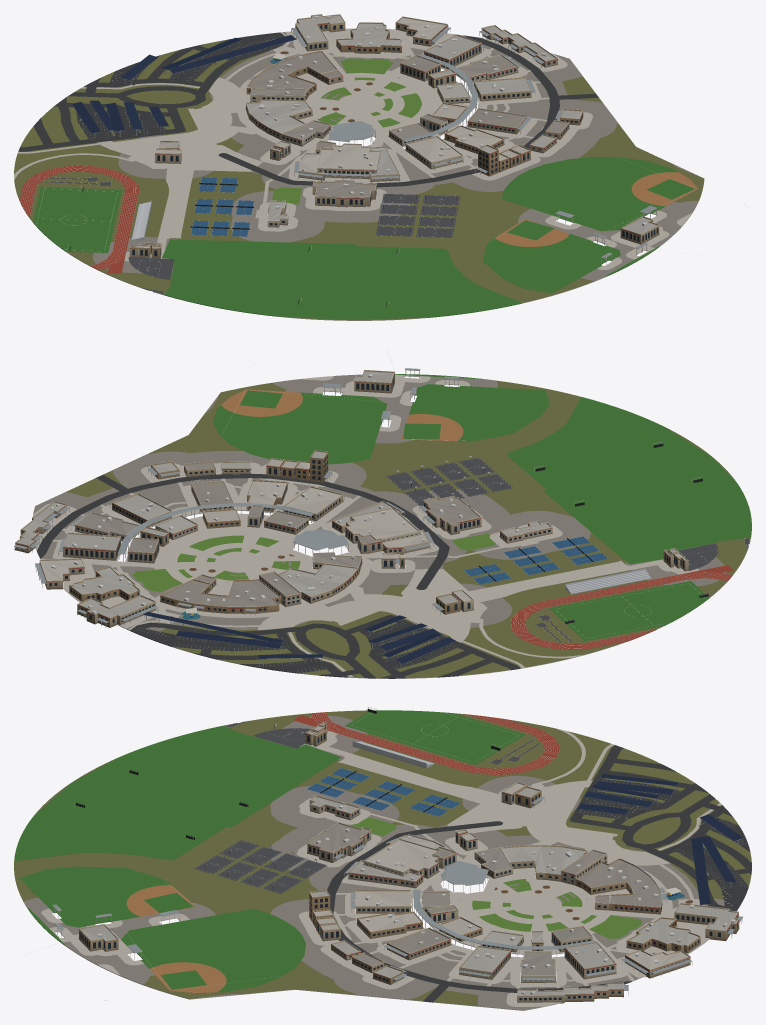
Rendered from del_norte_hs.glb.
3 renders of one model, top to bottom at view 1: azimuth 30°, elevation 25°; view 2: azimuth 150°, elevation 25°; view 3: azimuth 270°, elevation 25°, orthographic. The views are drawn at different scales.
Parts seen in each view (by area): view 1: del_norte_hs_ground, del_norte_hs_buildings; view 2: del_norte_hs_ground, del_norte_hs_buildings; view 3: del_norte_hs_ground, del_norte_hs_buildings.
Part boxes in pixels (left/top/right/bottom): del_norte_hs_ground: left=14, top=28, right=748, bottom=320; del_norte_hs_buildings: left=67, top=14, right=659, bottom=306; del_norte_hs_ground: left=32, top=350, right=751, bottom=678; del_norte_hs_buildings: left=14, top=368, right=718, bottom=667; del_norte_hs_ground: left=14, top=710, right=751, bottom=1010; del_norte_hs_buildings: left=52, top=707, right=743, bottom=1003.
Size of the model in its own units: 471 by 18.8 by 489.
